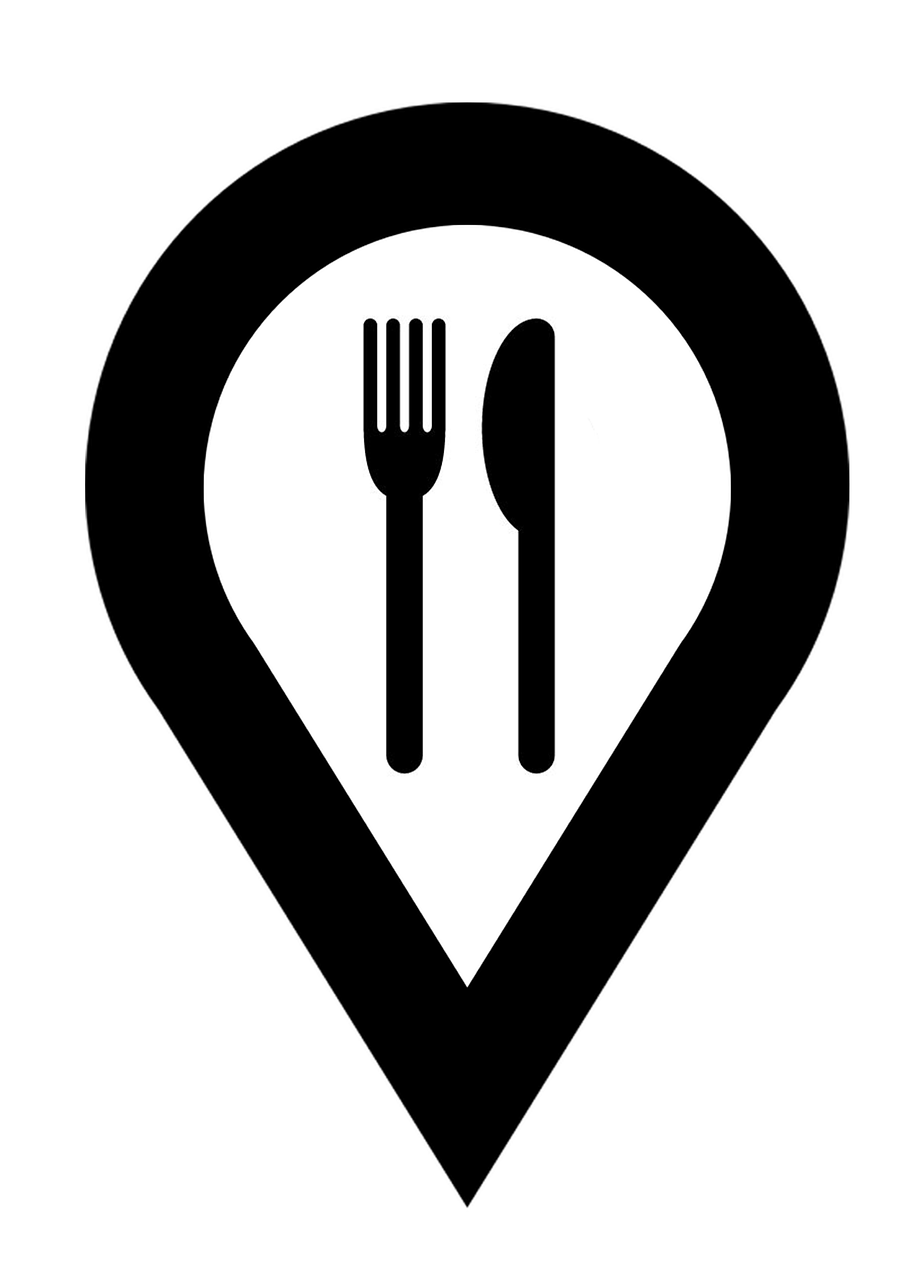knife: (473, 305, 566, 778)
